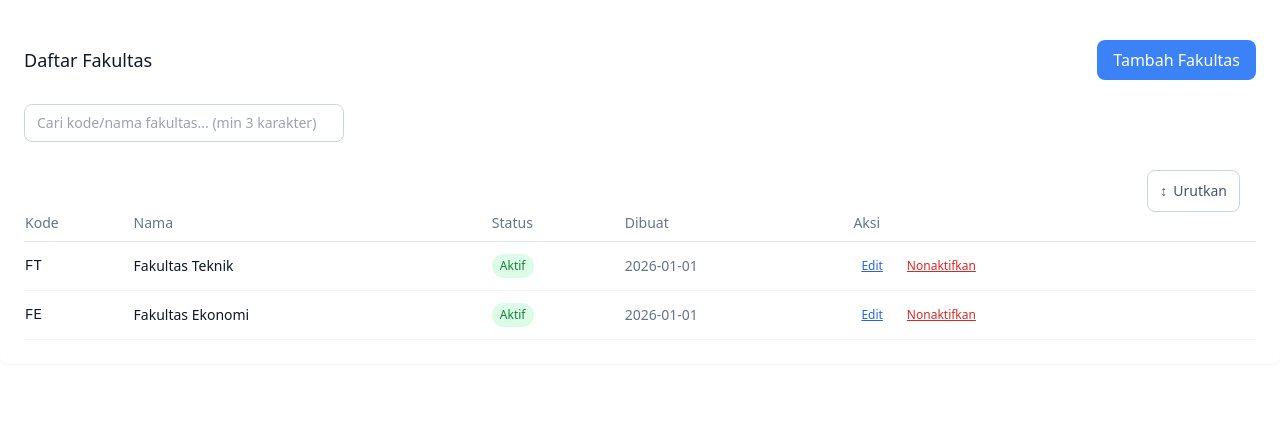
Test: AdminMasterPage (Fakultas & Prodi) › nonaktifkan fakultas → deleteFaculty dipanggil
Expected: the text "Fakultas Teknik" is shown, [133,242,491,290]
// Klik Nonaktifkan pada baris pertama (FT)
Click the button "Nonaktifkan" in the row of "Fakultas Teknik". click: {"x": 941, "y": 266}
box: [899,254,984,278]
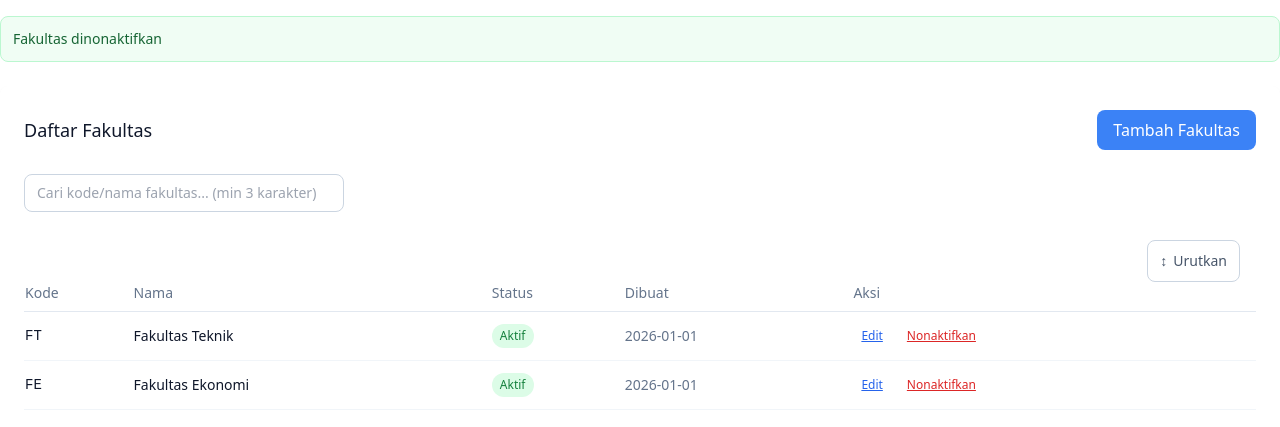
Expected: the text "Fakultas dinonaktifkan" is shown, [0,16,1279,62]
